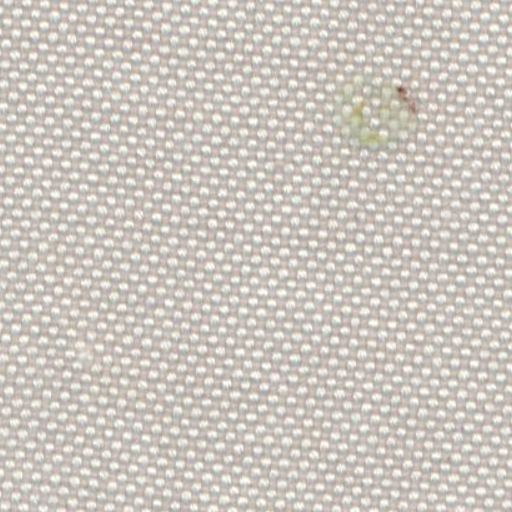WuZi: (330, 62, 433, 166)
